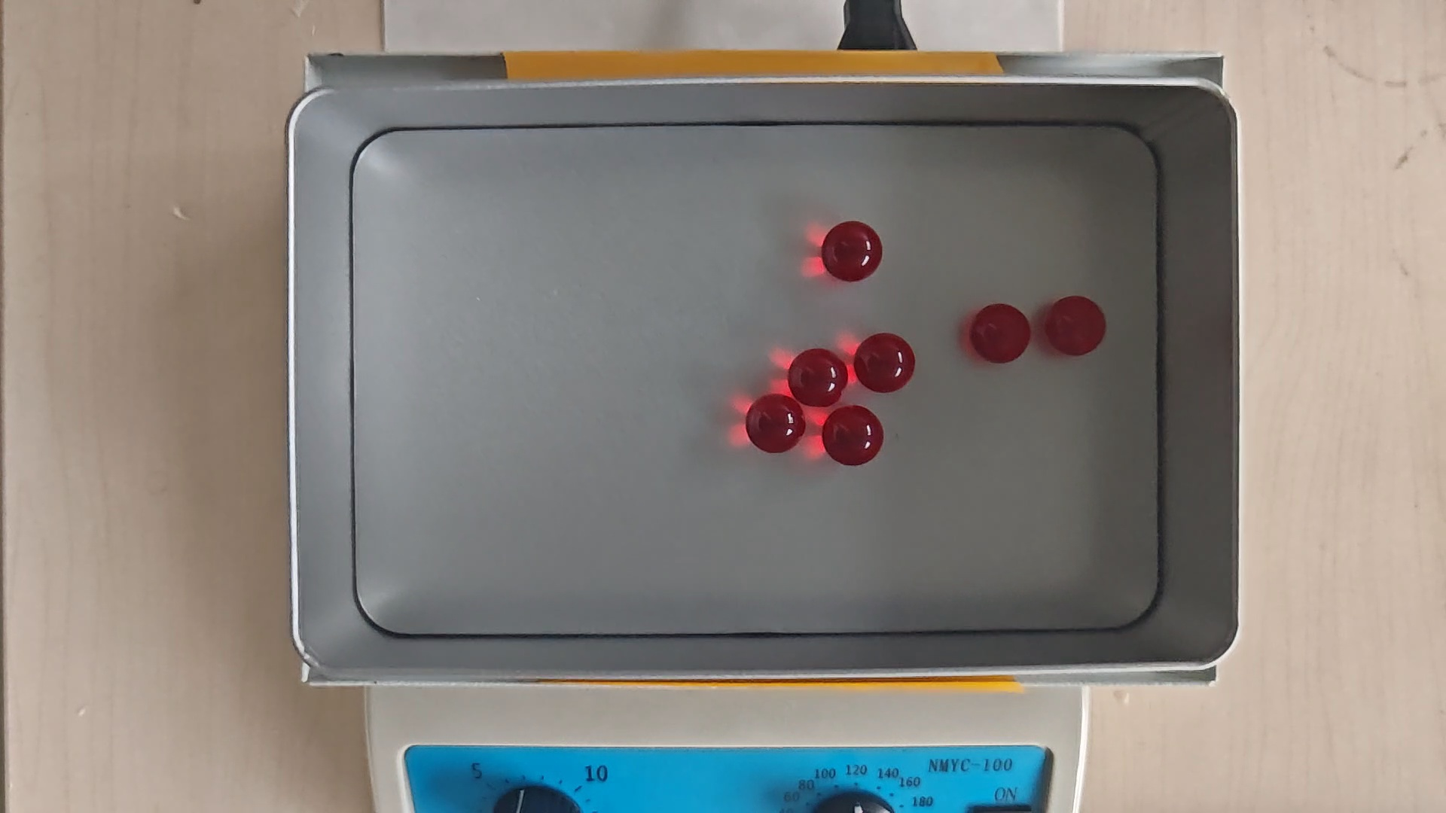ball: (821, 221, 883, 282), (822, 406, 883, 467), (746, 394, 804, 455), (856, 333, 914, 394), (790, 348, 847, 407), (972, 305, 1028, 364), (1047, 297, 1103, 355)
container: (352, 123, 1159, 635)
